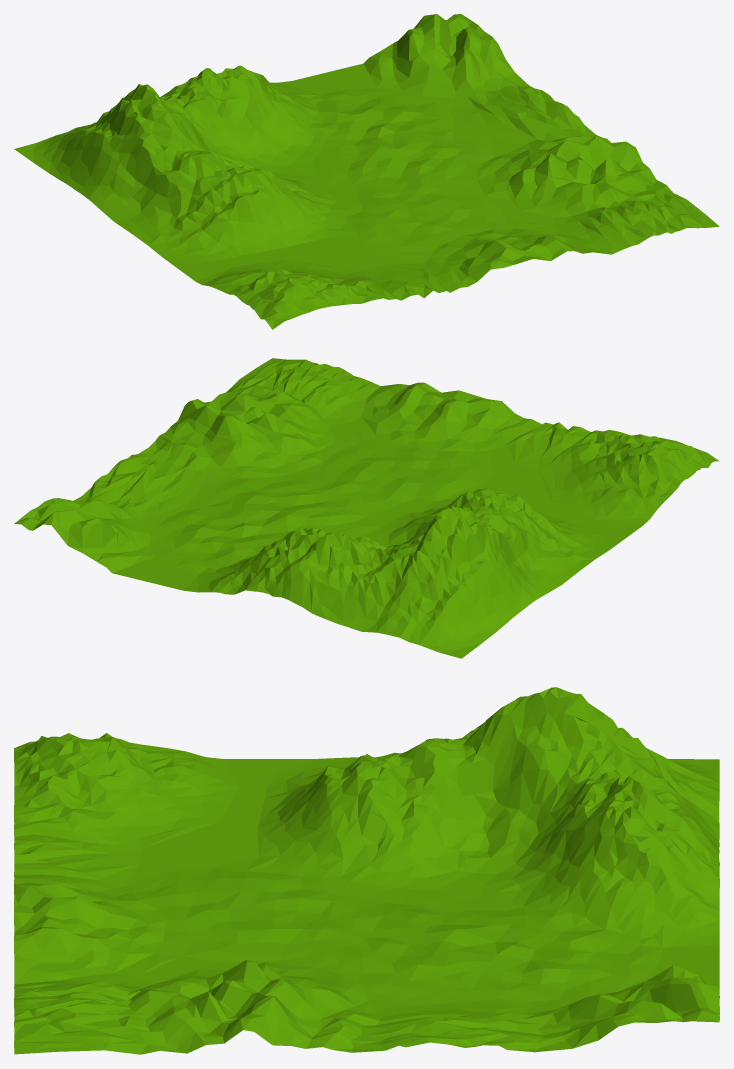
Rendered from TerrainGood.fbx.
3 views of the same model, one above another, from view 1: azimuth 30°, elevation 25°; view 2: azimuth 150°, elevation 25°; view 3: azimuth 270°, elevation 25° (orthographic). The views are drawn at different scales.
Visible parts, largest first — view 1: Terrain; view 2: Terrain; view 3: Terrain.
Boxes of the visible parts, left/top/right/bottom form: Terrain: left=14, top=14, right=719, bottom=329; Terrain: left=14, top=358, right=719, bottom=658; Terrain: left=14, top=687, right=719, bottom=1054.
Bounding box in the file's own units: 10013 × 1891 × 10008.
